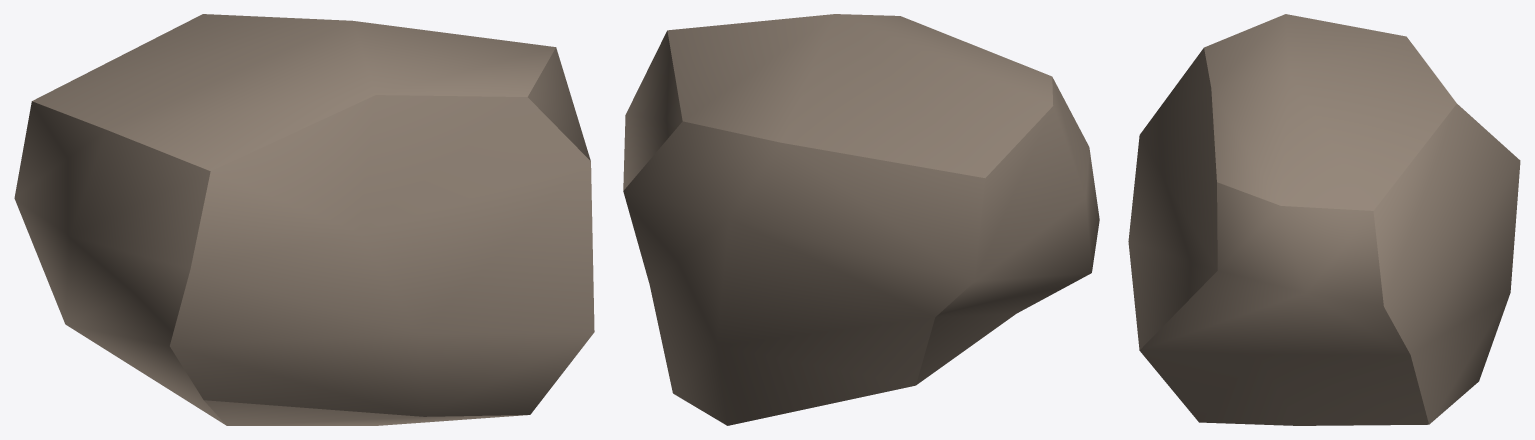
Rendered from StoneMedium_Mesh.fbx.
3 renders of one model, left to right at view 1: azimuth 30°, elevation 25°; view 2: azimuth 150°, elevation 25°; view 3: azimuth 270°, elevation 25°, orthographic. The views are drawn at different scales.
Visible parts, largest first — view 1: StoneMedium_Mesh; view 2: StoneMedium_Mesh; view 3: StoneMedium_Mesh.
Part boxes in pixels (left/top/right/bottom): StoneMedium_Mesh: left=14, top=14, right=594, bottom=425; StoneMedium_Mesh: left=623, top=14, right=1099, bottom=425; StoneMedium_Mesh: left=1128, top=14, right=1520, bottom=425.
Bounding box in the file's own units: 160 × 119 × 131.
